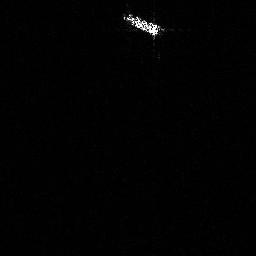ship: (120, 10, 164, 40)
